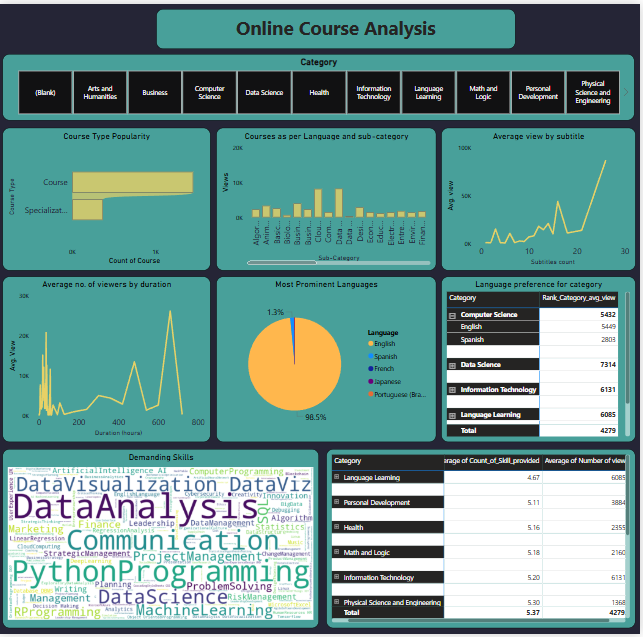

What the dashboard file says about the page in this screenshot:
{"tool":"powerbi","page":{"name":"Page 1","canvas":[1280,1260],"ordinal":0},"visuals":[{"type":"barChart","title":"Course Type Popularity","fields":{"Category":["Online_Courses.Course Type"],"Y":["CountNonNull(Online_Courses.Course ID)"]},"box":[5.7,248.6,415.7,285.7],"z":0},{"type":"clusteredColumnChart","title":"Courses as per Language and sub-category","fields":{"Y":["tbl_Measure.Avg_View"],"Category":["Online_Courses.Sub-Category","Online_Courses.Language"]},"box":[431.4,248.6,440,285.7],"z":1000},{"type":"pieChart","title":"Most Prominent Languages","fields":{"Category":["Online_Courses.Language"],"Y":["CountNonNull(Online_Courses.Course ID)"]},"box":[431.4,544.3,440,331.4],"z":2000},{"type":"pivotTable","title":"Language preference for category","fields":{"Rows":["Online_Courses.Category","Online_Courses.Language"],"Values":["tbl_Measure.Rank_Category_avg_view"]},"box":[881.4,544.3,388.6,331.4],"z":3000},{"type":"lineChart","title":"Average view by subtitle","fields":{"Category":["Online_Courses.Subtitle_Count"],"Y":["tbl_Measure.Avg_View"]},"box":[881.4,248.6,388.6,285.7],"z":4000},{"type":"lineChart","title":"Average no. of viewers by duration","fields":{"Category":["Online_Courses.Duration_in_hour"],"Y":["Avg(Online_Courses.Number of viewers)"]},"box":[5.7,544.3,415.7,331.4],"z":5000},{"type":"textbox","box":[311.4,10,718.6,80],"z":6000},{"type":"pythonVisual","title":"Demanding Skills","fields":{"Values":["Online_Courses.Skills"]},"box":[5.7,890,632.9,358.6],"z":7000},{"type":"slicer","title":"Category","fields":{"Values":["Online_Courses.Category"]},"box":[5.7,100,1264.3,132.9],"z":7001},{"type":"pivotTable","fields":{"Rows":["Online_Courses.Category","Online_Courses.Sub-Category"],"Values":["Avg(Online_Courses.Count_of_Skill_provided)","Avg(Online_Courses.Number of viewers)"]},"box":[651.4,890,618.6,358.6],"z":7002}]}

Visuals, with their boxes in screenshot pixels (x1, y1, x2, y2), scaled from the page's 1280x1260 canvas onto the 643x637 screenshot:
"Course Type Popularity" barChart: {"x1": 3, "y1": 126, "x2": 212, "y2": 270}
"Courses as per Language and sub-category" clusteredColumnChart: {"x1": 217, "y1": 126, "x2": 438, "y2": 270}
"Most Prominent Languages" pieChart: {"x1": 217, "y1": 275, "x2": 438, "y2": 443}
"Language preference for category" pivotTable: {"x1": 443, "y1": 275, "x2": 638, "y2": 443}
"Average view by subtitle" lineChart: {"x1": 443, "y1": 126, "x2": 638, "y2": 270}
"Average no. of viewers by duration" lineChart: {"x1": 3, "y1": 275, "x2": 212, "y2": 443}
textbox: {"x1": 156, "y1": 5, "x2": 517, "y2": 46}
"Demanding Skills" pythonVisual: {"x1": 3, "y1": 450, "x2": 321, "y2": 631}
"Category" slicer: {"x1": 3, "y1": 51, "x2": 638, "y2": 118}
pivotTable - Online_Courses.Category x Online_Courses.Sub-Category: {"x1": 327, "y1": 450, "x2": 638, "y2": 631}
